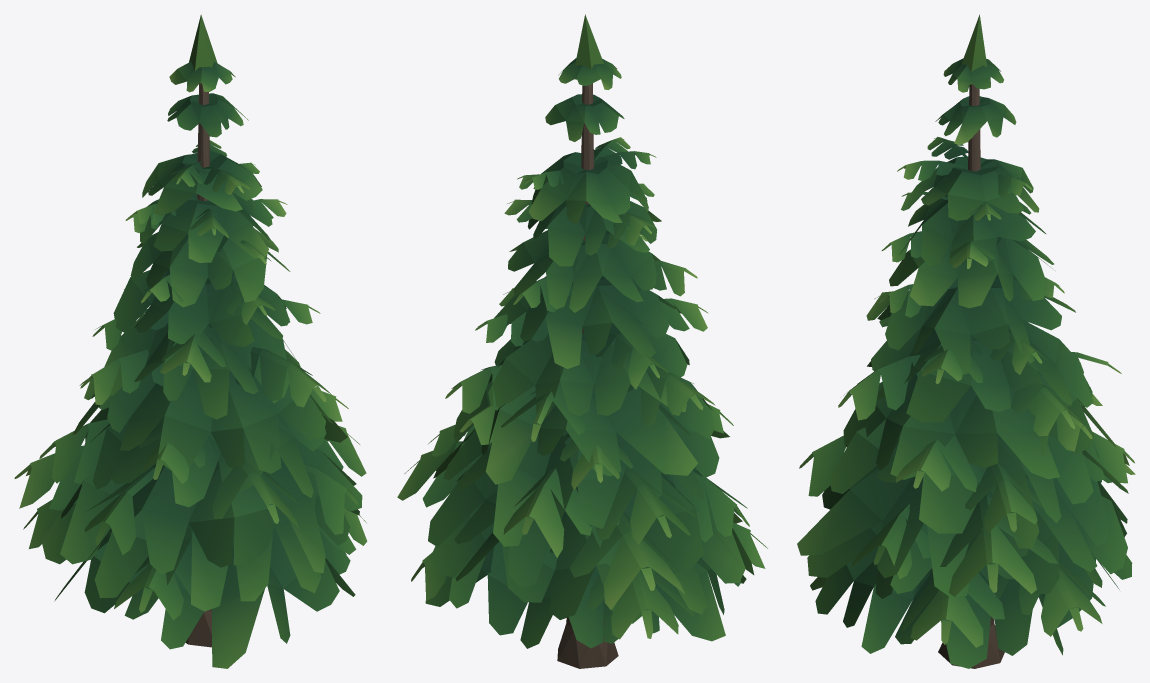
File: spruce_S_normal_std_dense_s28.glb
3 views of the same model, side by side, from view 1: azimuth 30°, elevation 25°; view 2: azimuth 150°, elevation 25°; view 3: azimuth 270°, elevation 25° (orthographic). The views are drawn at different scales.
Visible parts, largest first — view 1: Tree; view 2: Tree; view 3: Tree.
Part boxes in pixels (box(x1,y1,x2,y2)): Tree: box(14, 14, 367, 668); Tree: box(397, 14, 767, 668); Tree: box(797, 14, 1135, 668).
Size of what is drawn, in the model's own units: 2.09 by 3.95 by 1.89.
